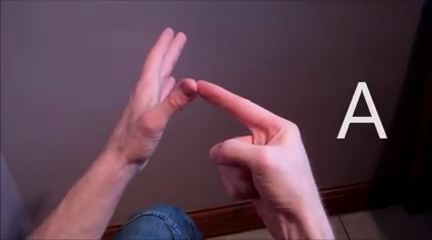A: (112, 19, 321, 216)
